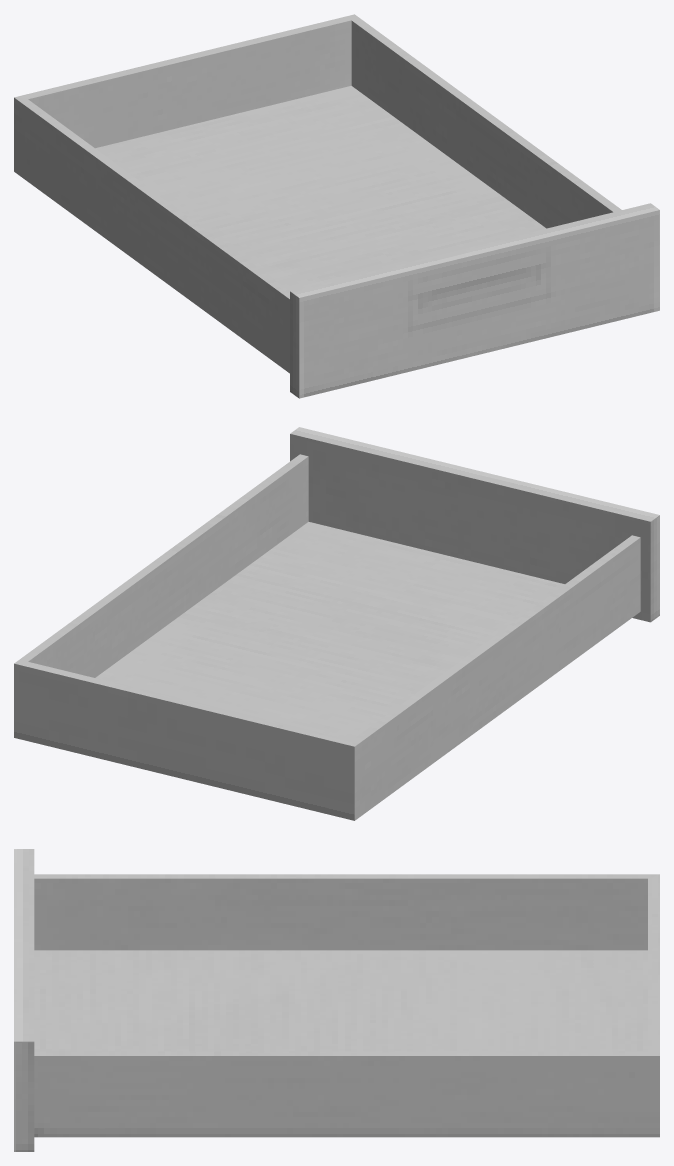
Rendered from DeskDrawer.glb.
3 views of the same model, one above another, from view 1: azimuth 30°, elevation 25°; view 2: azimuth 150°, elevation 25°; view 3: azimuth 270°, elevation 25° (orthographic). The views are drawn at different scales.
Parts seen in each view (by area): view 1: desk drawer; view 2: desk drawer; view 3: desk drawer.
Boxes of the visible parts, x1,y1,x2,y2 form: desk drawer: (14,14,659,398); desk drawer: (14,427,659,820); desk drawer: (14,849,659,1151).
Size of the model in its own units: 0.45 by 0.12 by 0.6379.
Materials: 1 (1 with a texture image).
